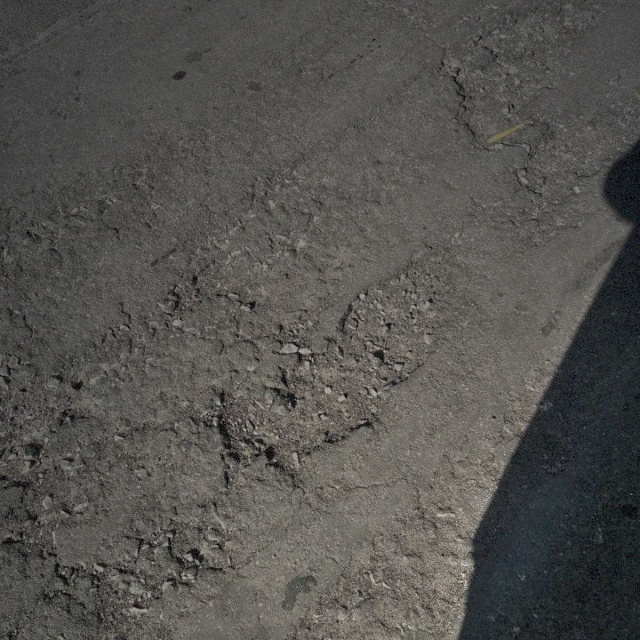pothole: (436, 0, 606, 146), (206, 350, 393, 480), (329, 256, 464, 380), (516, 116, 615, 206)
